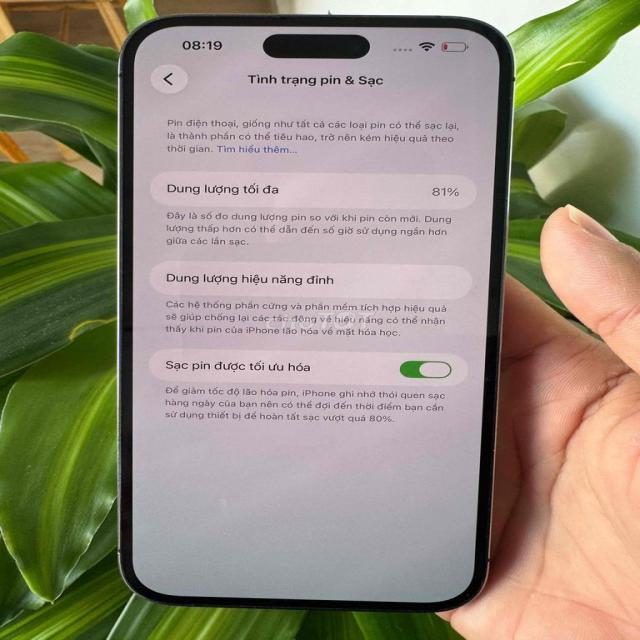gen_14: (98, 11, 518, 612)
